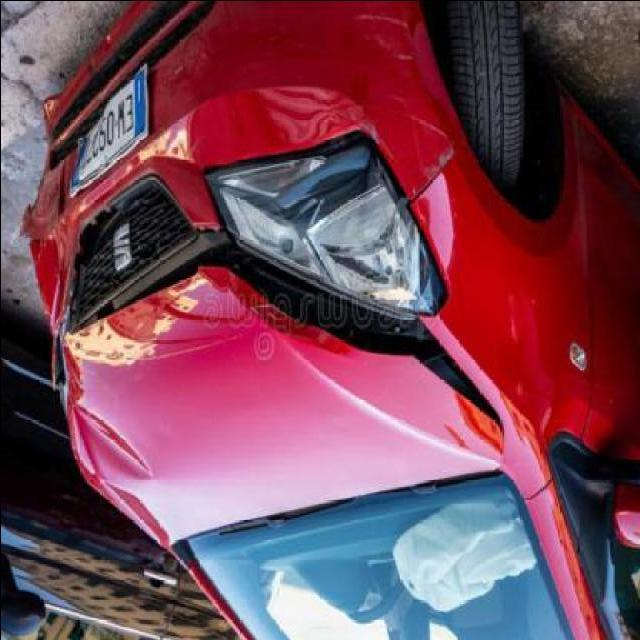bonnet-dent: (53, 229, 517, 465)
front-bumper-dent: (142, 0, 487, 233)
